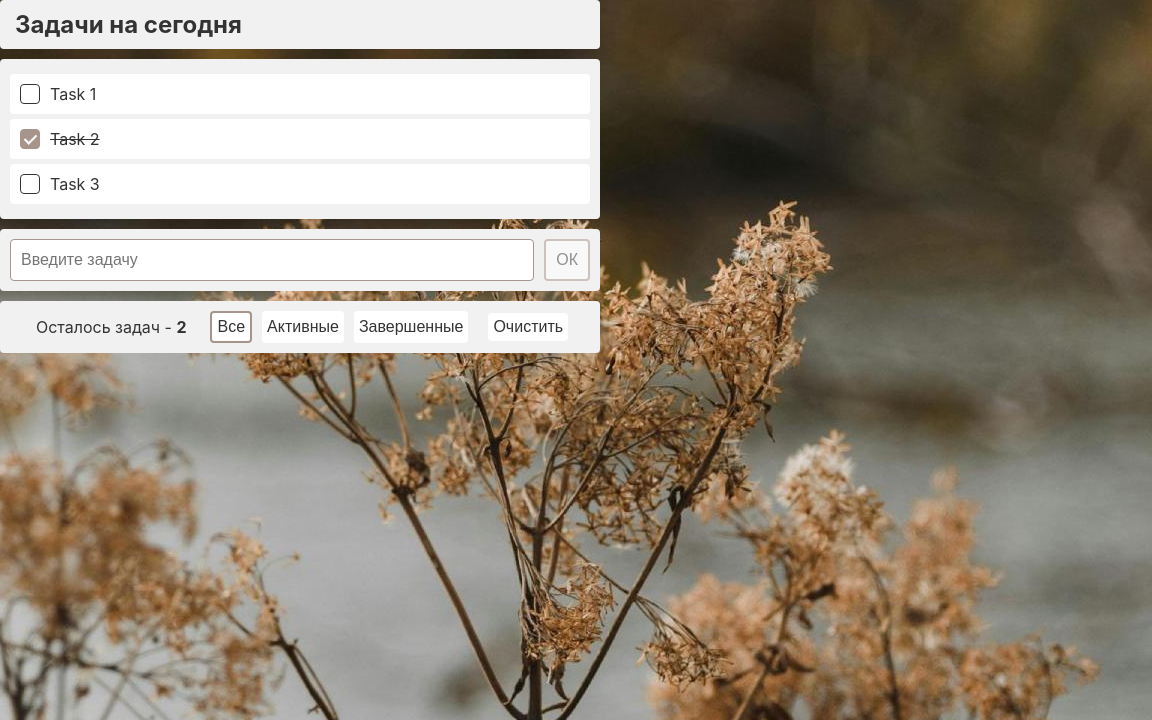
it: TaskList component › filters tasks by "active" status
This screenshot has width=1152, height=720.
Click the button "Активные".
click(303, 327)  # box [262,311,344,343]
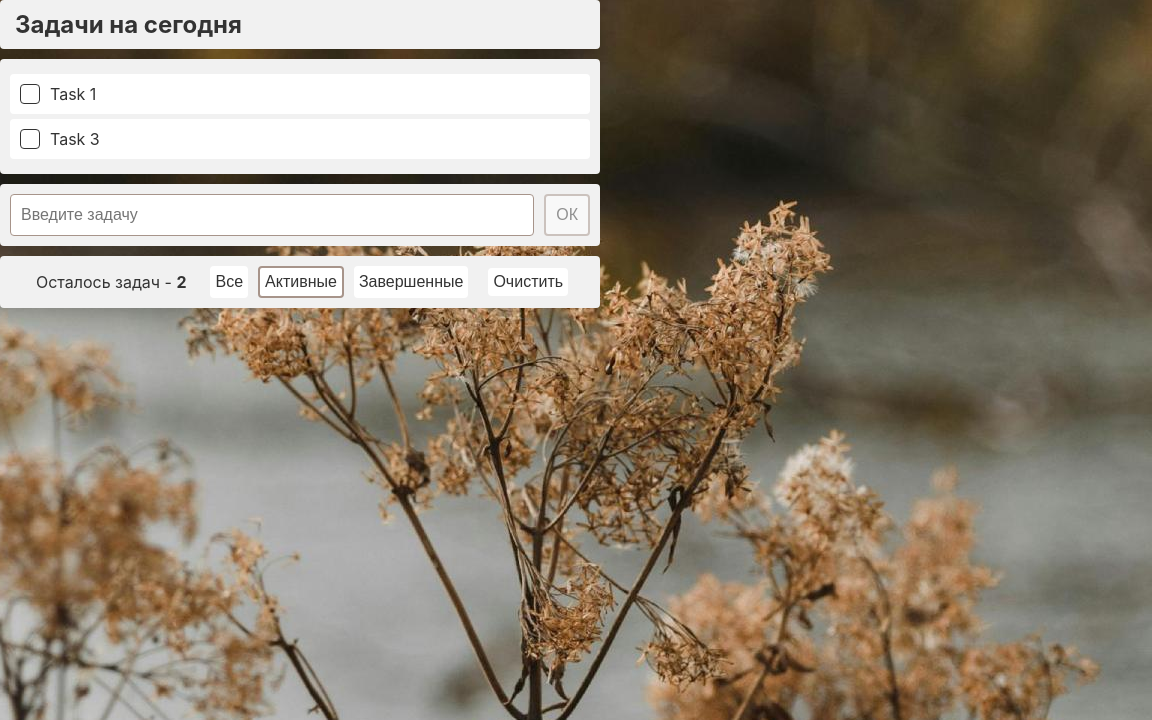
Expected: the checkbox "Task 1" is shown, [20,84,96,104]
Result: the checkbox "Task 2" is gone
